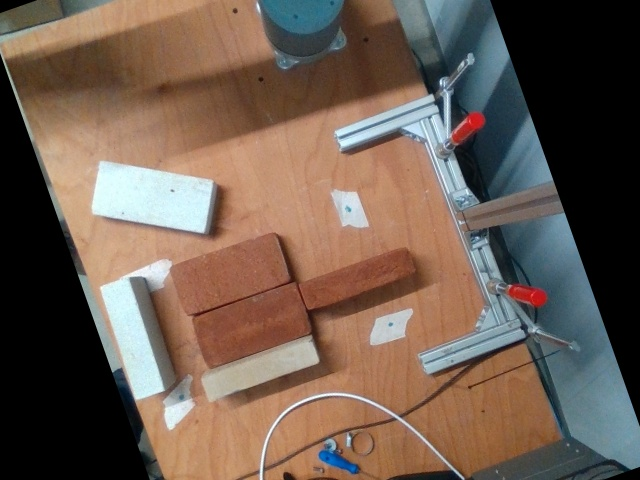brick: (192, 283, 310, 368), (170, 233, 289, 314), (92, 162, 213, 233)
brick-side: (100, 279, 165, 399), (300, 248, 415, 311), (201, 340, 318, 401)
